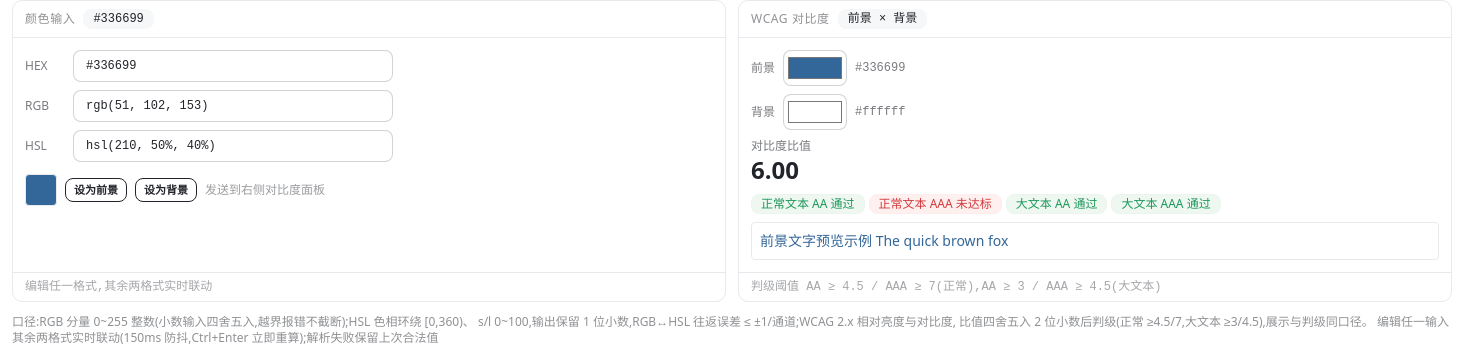
Test: ColorTool 三格式联动与对比度 › 编辑 HEX:RGB/HSL 实时联动;对比度跟随前景/背景(需显式「设为前景」)
The width and height of the screenshot is (1464, 361).
Type "#ff0000" into the field with test id "color-hex".
click(233, 66); type("#ff0000")  # box [73, 50, 393, 82]
Wait 150 ms
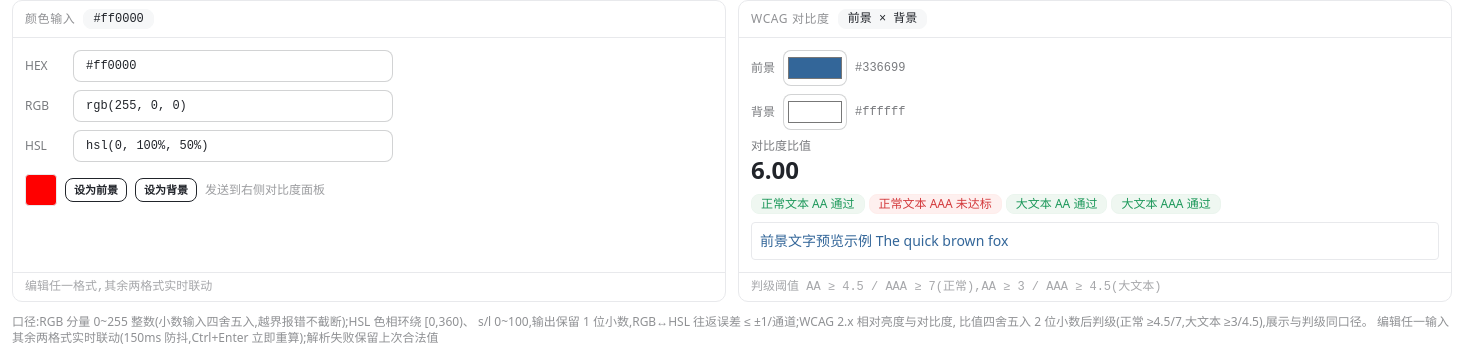
Expected: the text with test id "color-ratio" reads "6.00", [751, 153, 799, 186]
Now the field with test id "color-rgb" holds "rgb(255, 0, 0)", box [73, 90, 393, 122]
Now the field with test id "color-hsl" holds "hsl(0, 100%, 50%)", box [73, 130, 393, 162]
Click the button with test id "color-set-fg".
click(96, 190)  # box [65, 178, 127, 202]
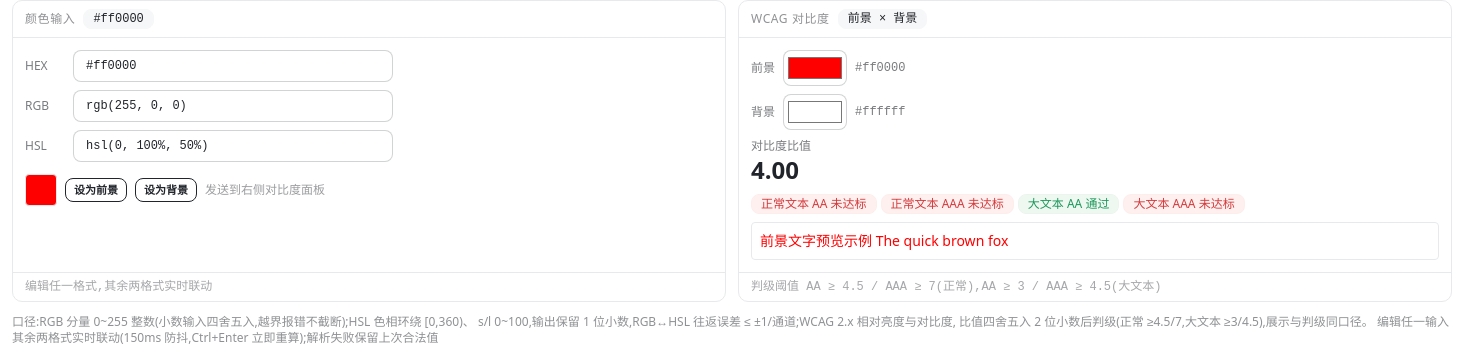
Now the text with test id "color-ratio" reads "4.00", box [751, 153, 799, 186]
